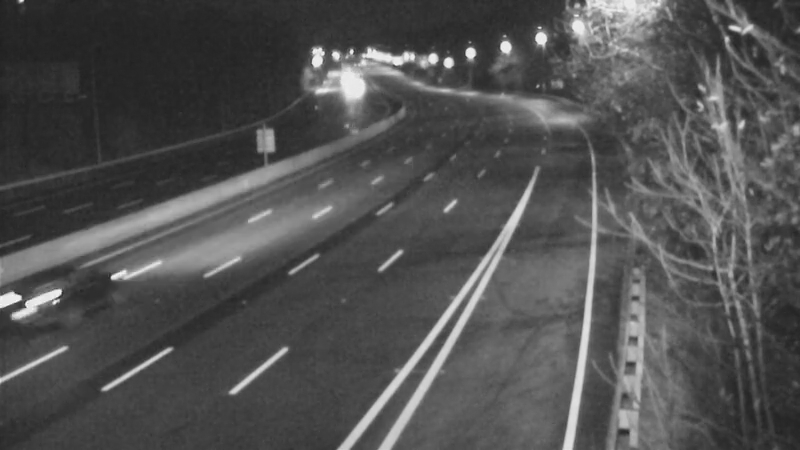vehicle: (27, 252, 107, 332), (326, 67, 376, 117)
